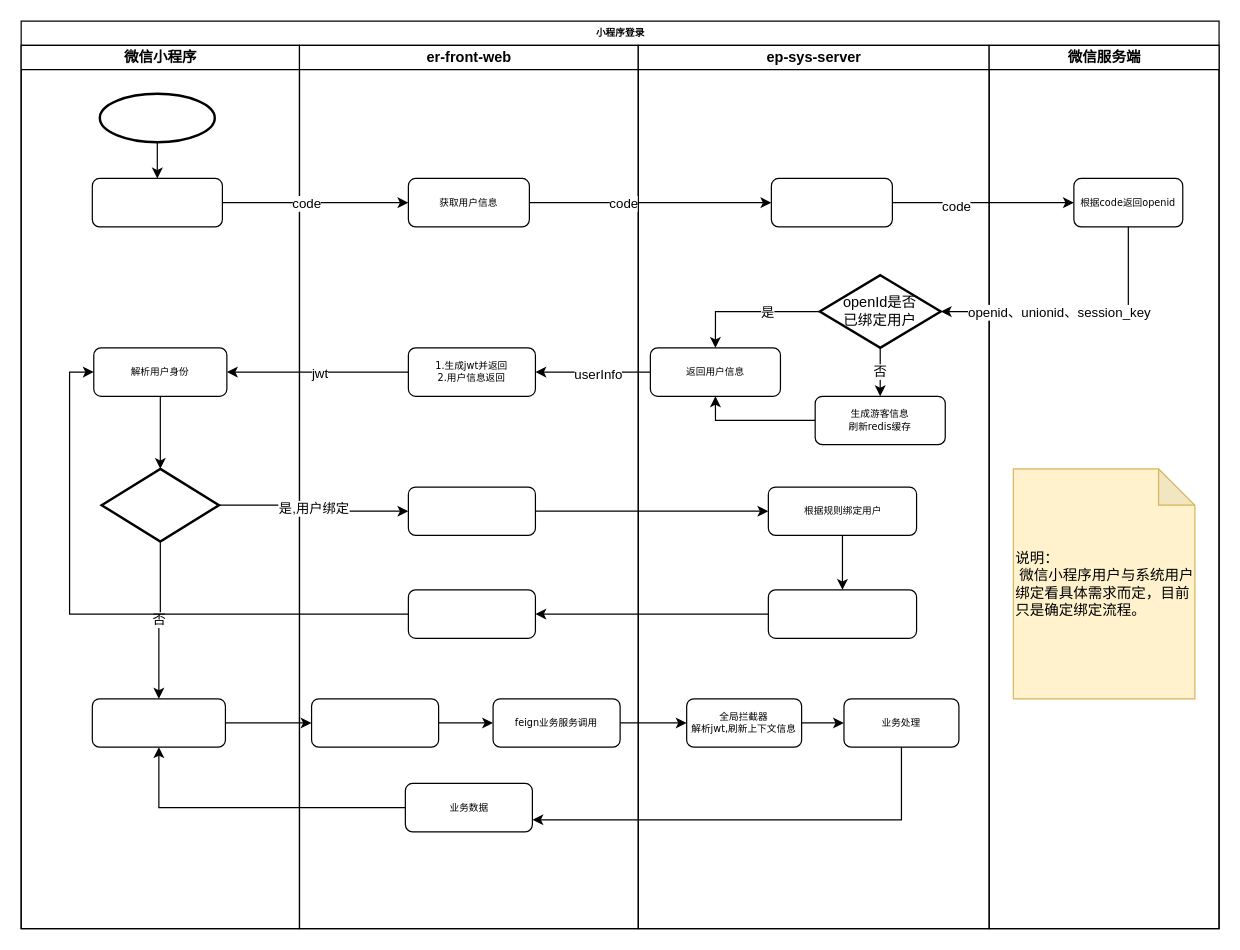
Image size: 1240x950. Some labels were removed from this diagram. Here are the shapes that lost their labels. From the top down, the centre of each, then its label:
At (156,117): "打开小程序".
At (156,202): "wx.login".
At (831,202): "获取用户openid".
At (160,504): "是否为游客".
At (471,510): "用户绑定".
At (471,613): "生成新的jwt".
At (842,613): "返回新的用户信息 刷新用户redis缓存".
At (158,722): "业务请求".
At (374,722): "校验jwt,并获取用户信息设置header".
